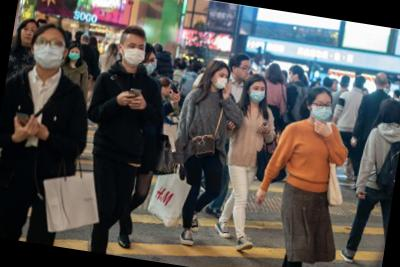with_mask: (34, 32, 66, 72), (121, 37, 146, 66), (310, 97, 335, 124), (248, 82, 268, 105), (213, 71, 231, 92), (143, 54, 159, 75), (68, 48, 81, 61), (287, 71, 298, 84), (383, 86, 392, 95)
without_mask: (19, 24, 38, 46), (234, 61, 252, 83), (160, 85, 173, 96)
